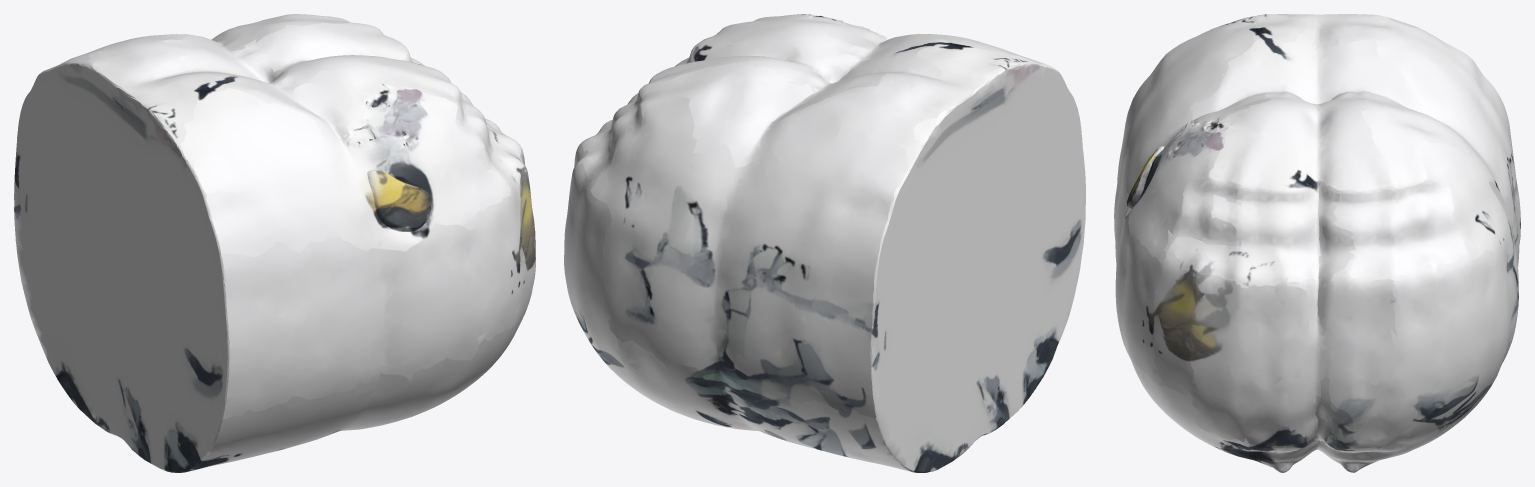
The picture shows the model from 3 angles, left to right: view 1: azimuth 30°, elevation 25°; view 2: azimuth 150°, elevation 25°; view 3: azimuth 270°, elevation 25°; orthographic projection. The views are drawn at different scales.
Visible parts, largest first — view 1: world; view 2: world; view 3: world.
Boxes of the visible parts, x1,y1,x2,y2 form: world: [14, 14, 535, 472]; world: [564, 14, 1085, 472]; world: [1114, 14, 1520, 472].
Bounding box in the file's own units: 0.585 × 0.5514 × 0.6.
Materials: 1 (1 with a texture image).
